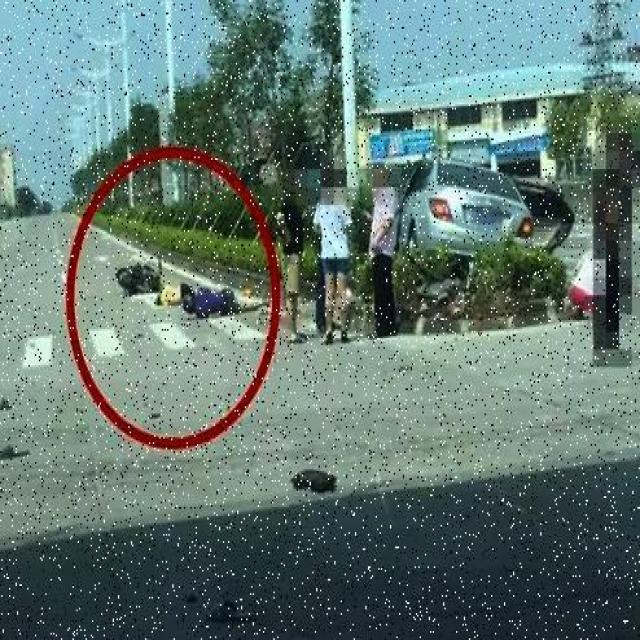fall: (178, 280, 266, 322)
